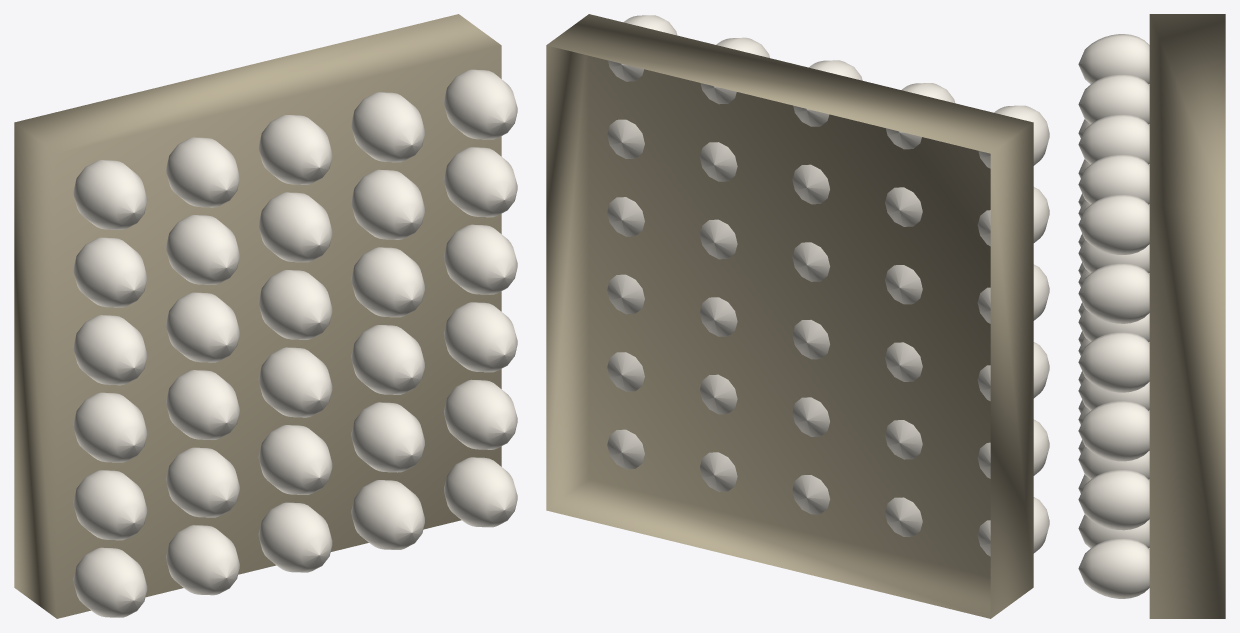
The model's file is egg_tray_30.obj.
3 renders of one model, left to right at view 1: azimuth 30°, elevation 25°; view 2: azimuth 150°, elevation 25°; view 3: azimuth 270°, elevation 25°, orthographic. The views are drawn at different scales.
Bounding box in the file's own units: 0.3 × 0.3 × 0.097.
